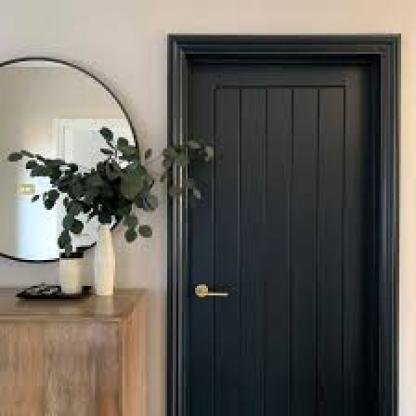Door: (171, 37, 394, 416)
